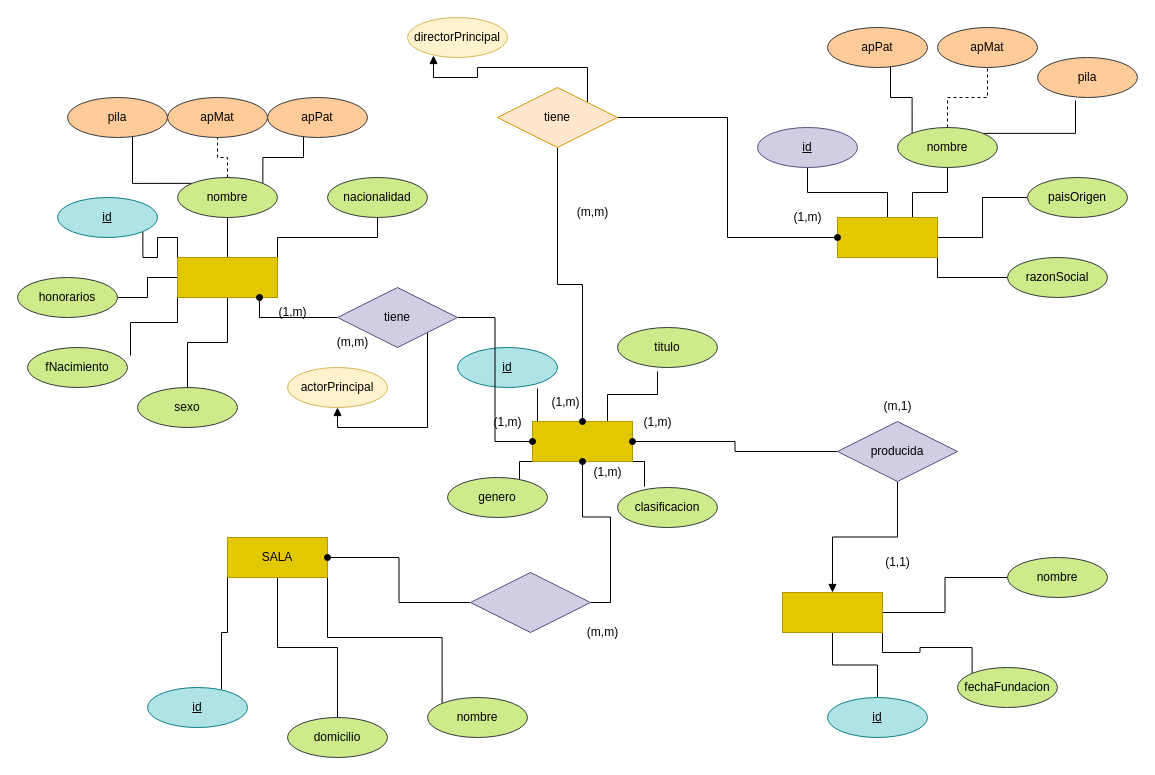
Image size: 1155x775. Some labels were removed from this diagram. The box of each missing label's shape, as (x1, y1, x2, y2) in pixels:
ACTOR: (176, 256, 278, 298)
COMPAÑIAPRODUCTORA: (782, 592, 882, 632)
DIRECTOR: (836, 216, 938, 258)
exhibe: (470, 572, 590, 632)
PELICULA: (532, 420, 632, 462)
